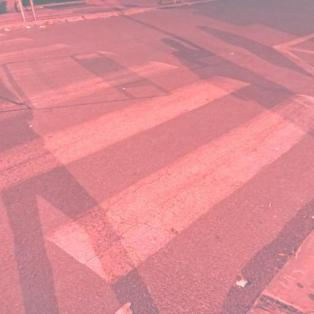Paso de Cebra: (2, 71, 313, 290)
